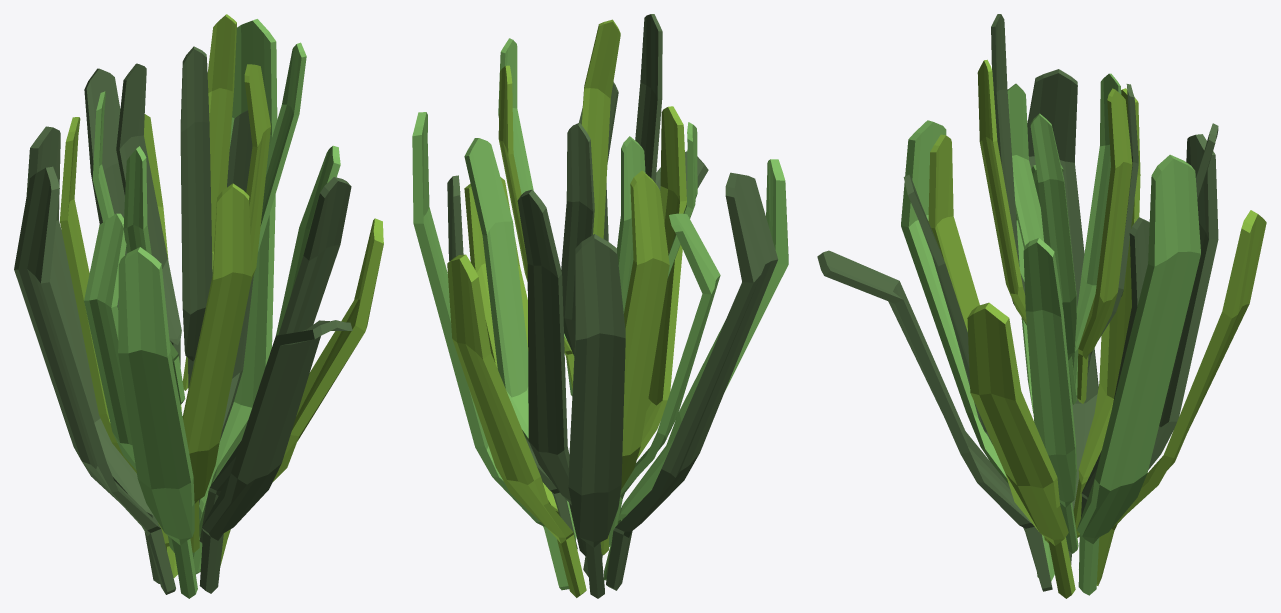
File: Shrub 1.fbx
3 views of the same model, side by side, from view 1: azimuth 30°, elevation 25°; view 2: azimuth 150°, elevation 25°; view 3: azimuth 270°, elevation 25° (orthographic). The views are drawn at different scales.
Visible parts, largest first — view 1: Shrub.001; view 2: Shrub.001; view 3: Shrub.001.
Part boxes in pixels (x1,y1,x2,y2): Shrub.001: [14, 14, 383, 598]; Shrub.001: [412, 14, 788, 598]; Shrub.001: [817, 14, 1266, 598].
Bounding box in the file's own units: 70.33 × 115 × 83.69.
